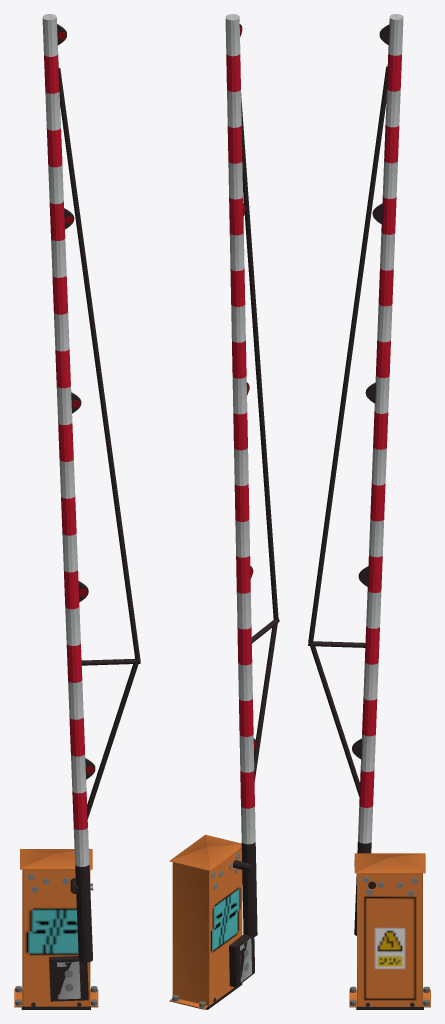
File: rhr-95_5m_lewo.obj
3 views of the same model, side by side, from view 1: azimuth 90°, elevation 25°; view 2: azimuth 150°, elevation 25°; view 3: azimuth 270°, elevation 25° (orthographic). The views are drawn at different scales.
Parts seen in each view (by area): view 1: drag, cuboid; view 2: drag, cuboid; view 3: drag, cuboid.
Part boxes in pixels (left/top/right/bottom): drag: left=42, top=14, right=140, bottom=1001; cuboid: left=14, top=849, right=98, bottom=1009; drag: left=225, top=14, right=279, bottom=987; cuboid: left=169, top=834, right=242, bottom=1009; drag: left=308, top=14, right=403, bottom=935; cuboid: left=349, top=853, right=430, bottom=1009.
Size of the model in its own units: 0.3991 by 6.78 by 0.776.
